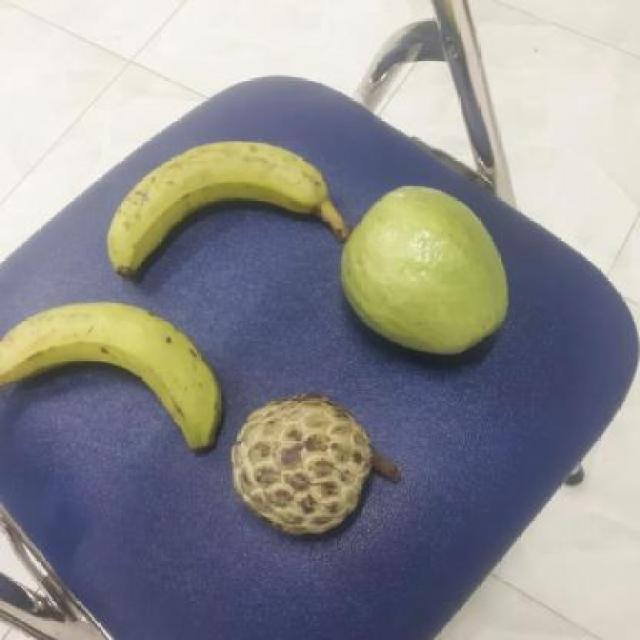banana: (109, 140, 357, 280), (9, 303, 228, 445)
guava: (339, 183, 515, 357)
sugar apple: (236, 392, 386, 542)
